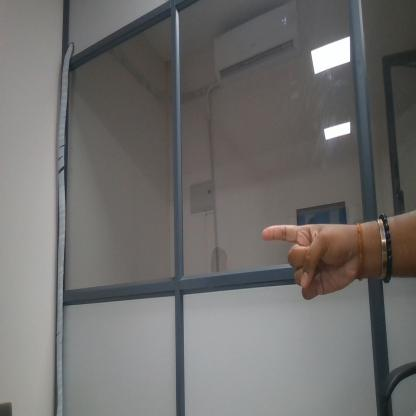Right: (251, 203, 349, 311)
